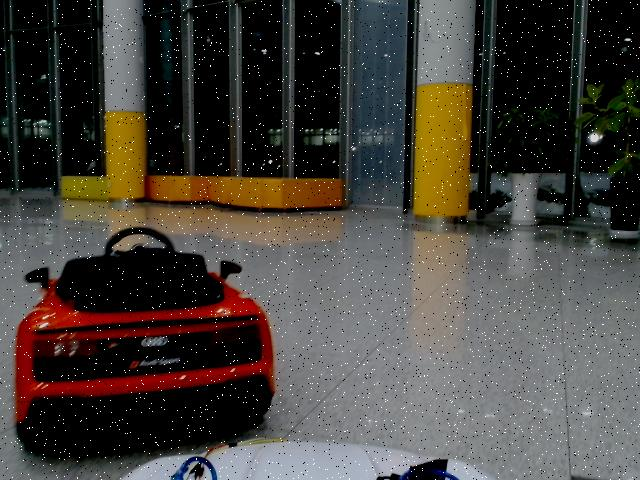car: (11, 225, 275, 447)
